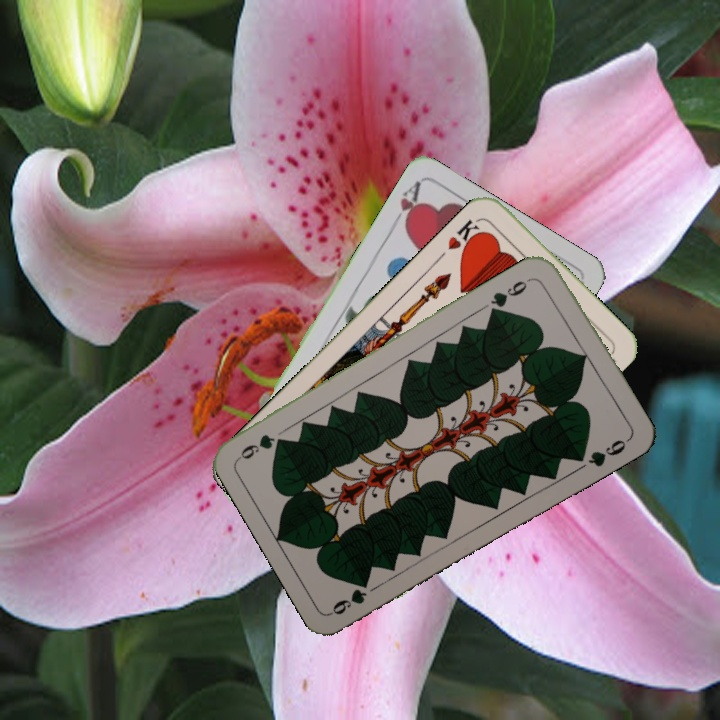G9: (486, 273, 537, 315), (328, 575, 372, 618)
HA: (387, 177, 424, 233)
HK: (444, 215, 486, 256)
